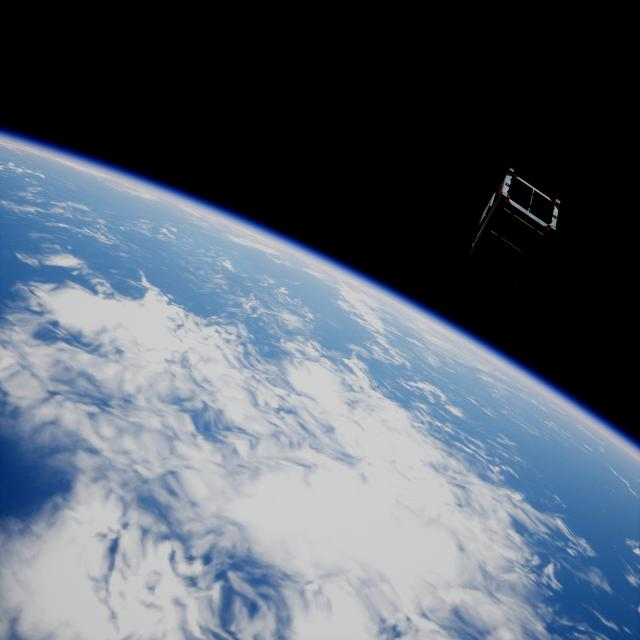medium_debris: (465, 164, 578, 291)
